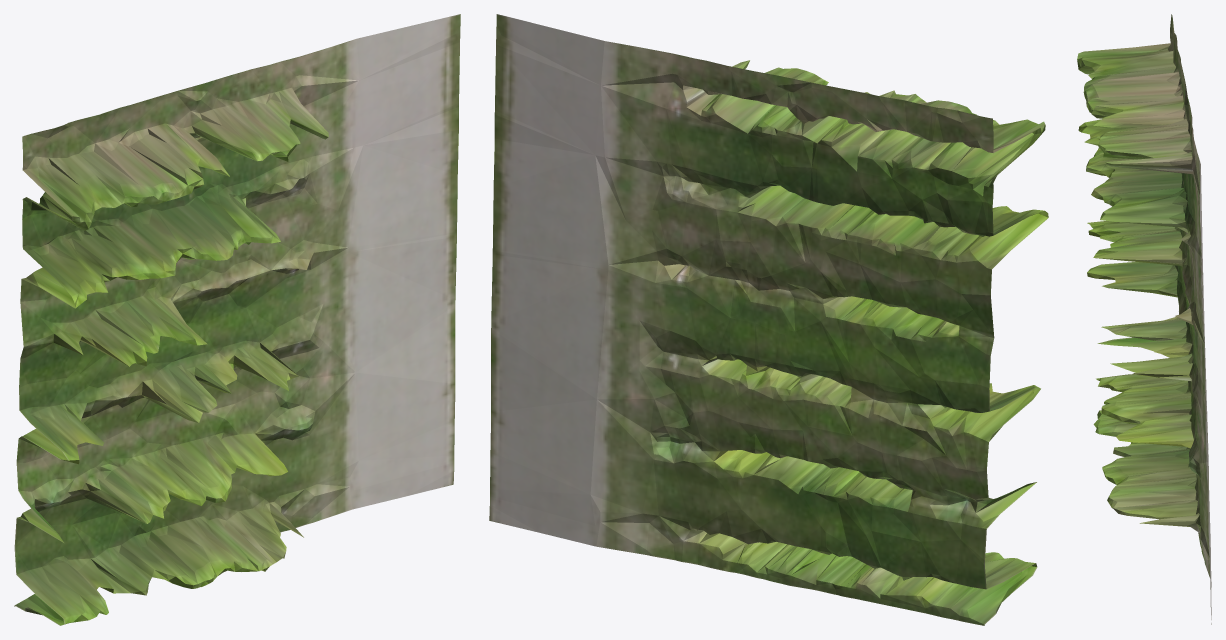
Rendered from map_150_80.obj.
3 views of the same model, side by side, from view 1: azimuth 30°, elevation 25°; view 2: azimuth 150°, elevation 25°; view 3: azimuth 270°, elevation 25° (orthographic). The views are drawn at different scales.
Visible parts, largest first — view 1: grp1; view 2: grp1; view 3: grp1.
Part boxes in pixels (bbox=[...]): grp1: bbox=[14, 14, 460, 625]; grp1: bbox=[489, 14, 1048, 625]; grp1: bbox=[1077, 14, 1211, 624].
Bounding box in the file's own units: 10 × 10 × 2.93.
Materials: 1 (1 with a texture image).
